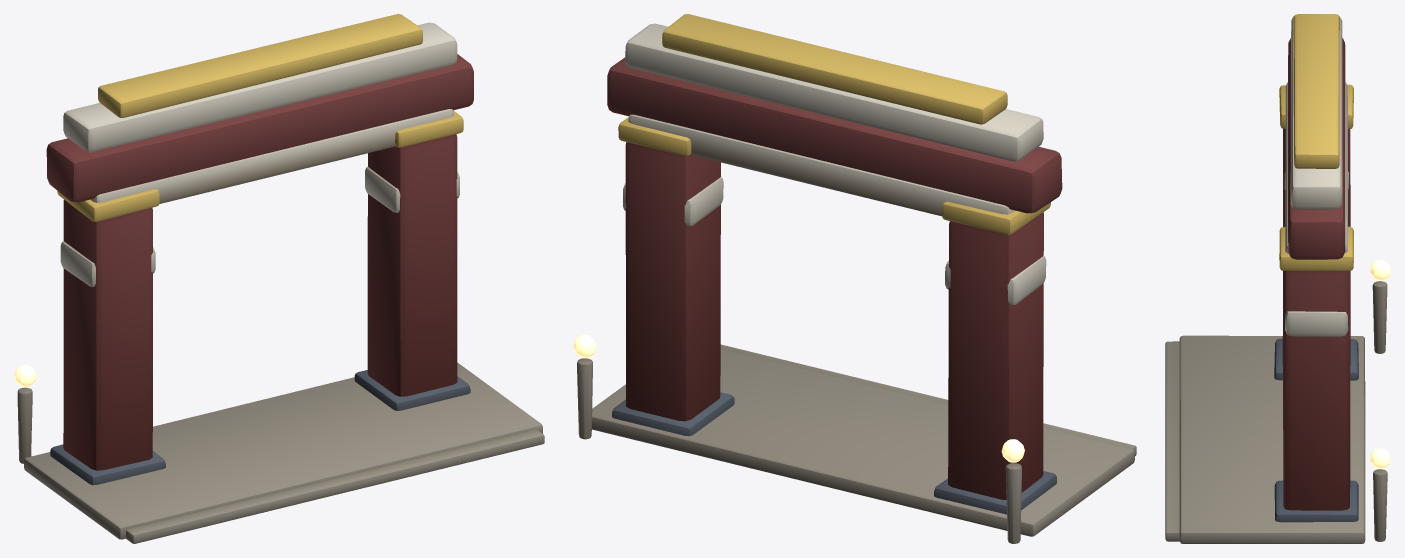
3 renders of one model, left to right at view 1: azimuth 30°, elevation 25°; view 2: azimuth 150°, elevation 25°; view 3: azimuth 270°, elevation 25°, orthographic. The views are drawn at different scales.
Parts seen in each view (by area): view 1: gate_bf0e23bc; view 2: gate_bf0e23bc; view 3: gate_bf0e23bc.
Boxes of the visible parts, bbox=[...] form: gate_bf0e23bc: bbox=[14, 14, 544, 543]; gate_bf0e23bc: bbox=[573, 14, 1136, 543]; gate_bf0e23bc: bbox=[1165, 14, 1390, 543].
Bounding box in the file's own units: 5.3 × 4.54 × 2.55.
